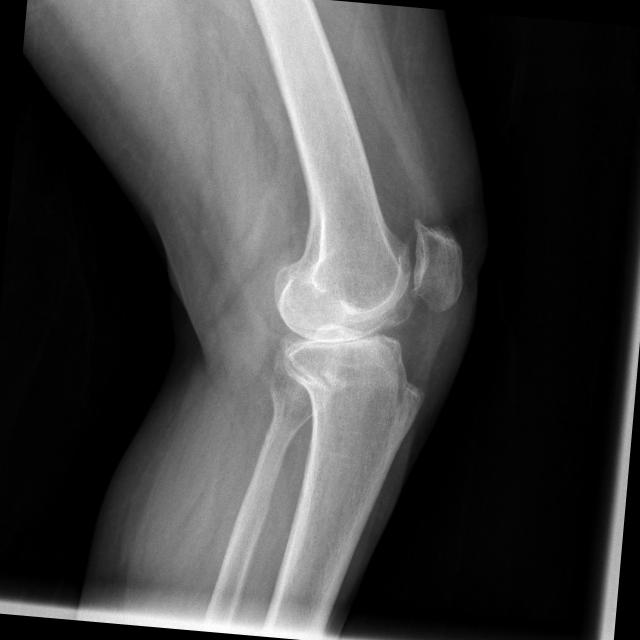Knee: (260, 202, 470, 431)
